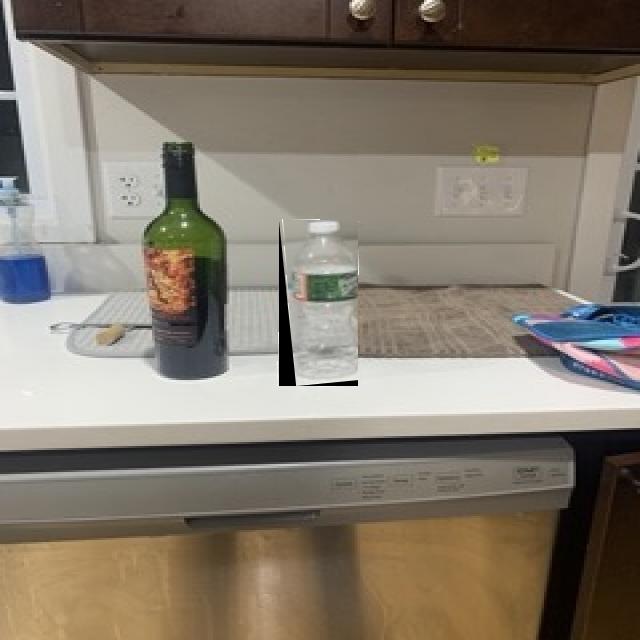water_bottle: (279, 220, 358, 386)
